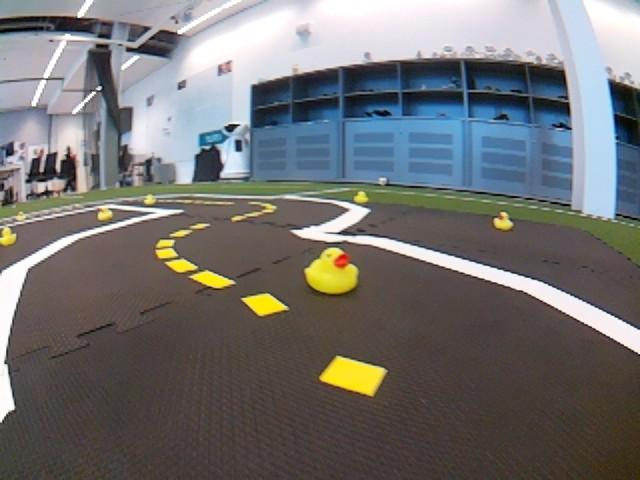Duckies: (302, 247, 356, 294), (494, 212, 513, 230), (1, 227, 16, 245), (97, 207, 112, 220), (354, 192, 369, 203), (145, 195, 157, 204), (14, 212, 24, 220)
